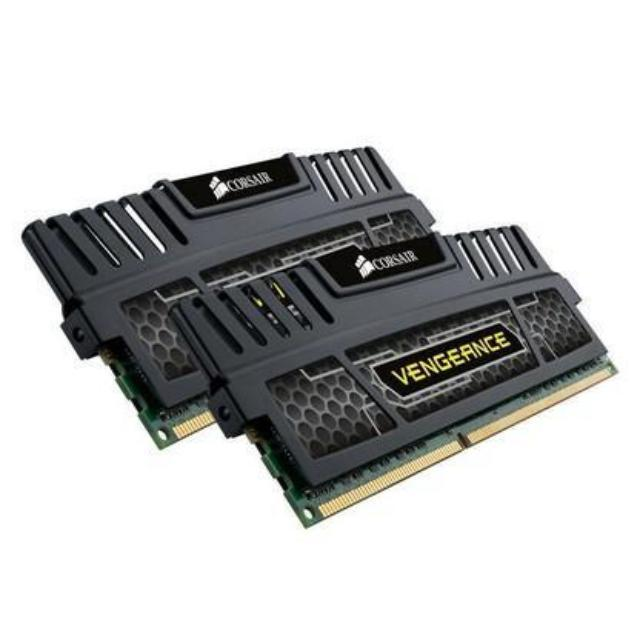RAM: (12, 128, 626, 560)
